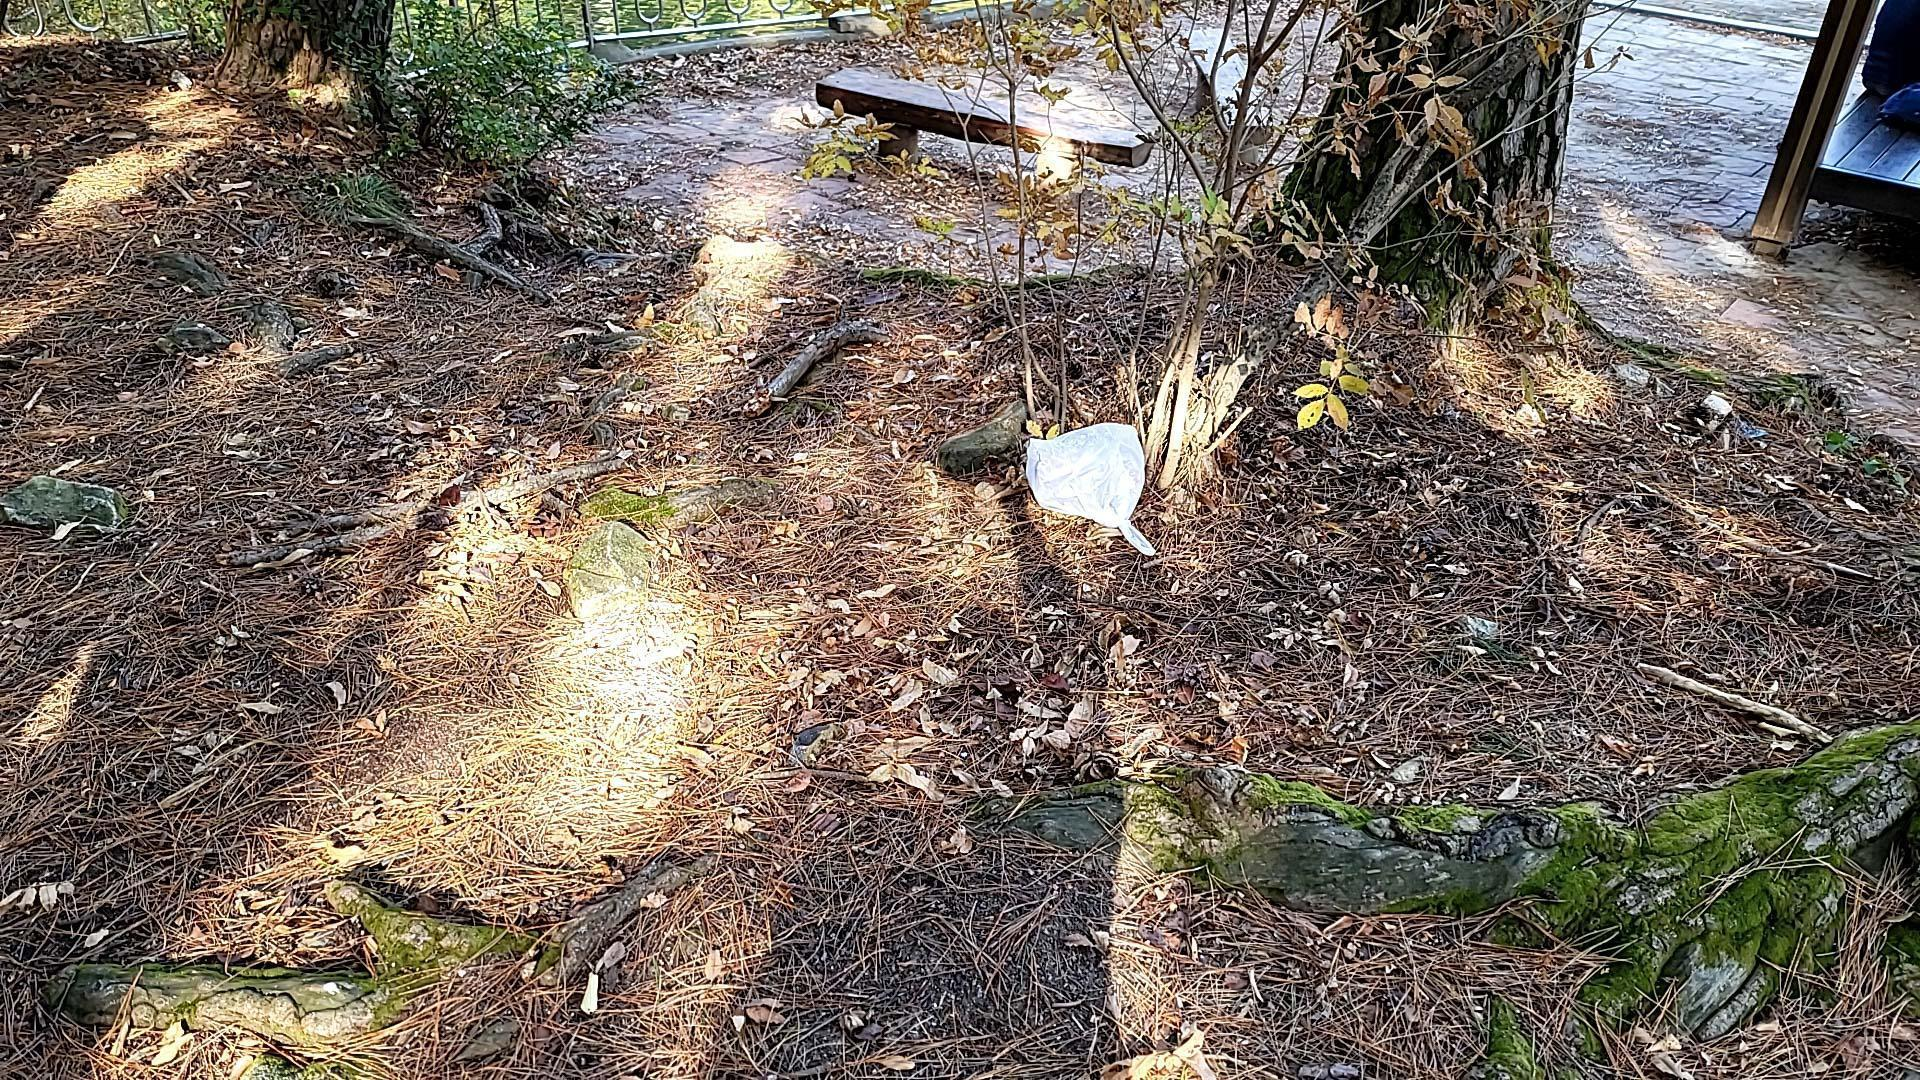white_bag: (1015, 419, 1167, 562)
